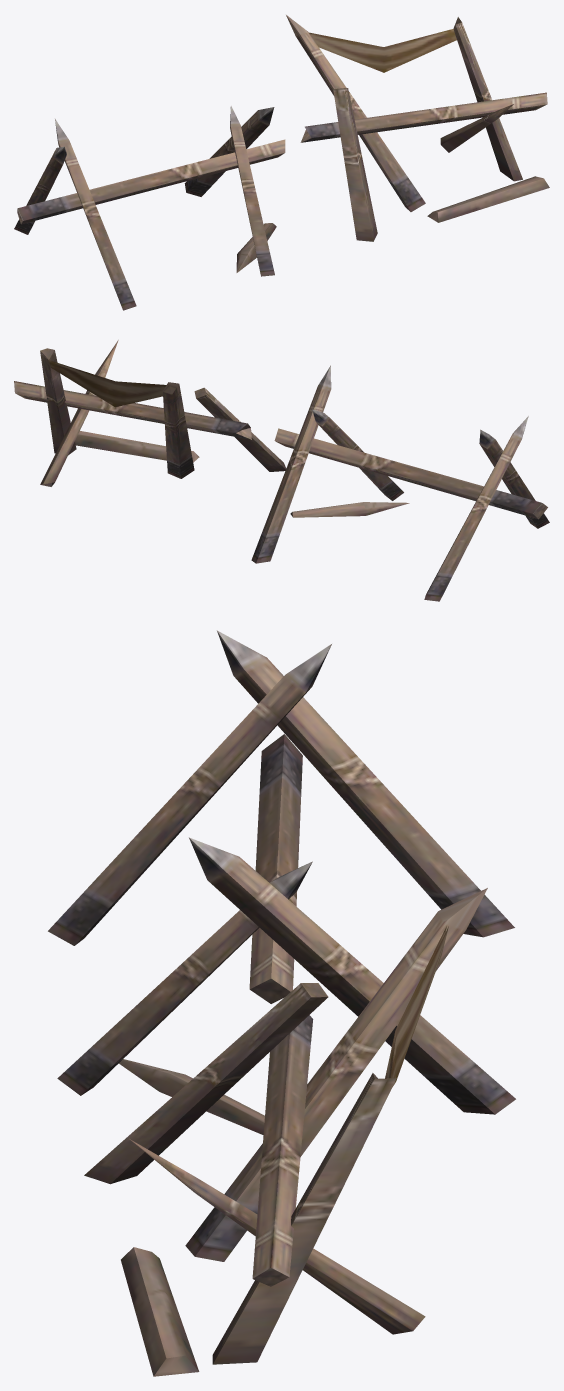
Rendered from juma02_R.fbx.
3 renders of one model, top to bottom at view 1: azimuth 30°, elevation 25°; view 2: azimuth 150°, elevation 25°; view 3: azimuth 270°, elevation 25°, orthographic. The views are drawn at different scales.
Parts seen in each view (by area): view 1: juma02_R; view 2: juma02_R; view 3: juma02_R.
Boxes of the visible parts, x1,y1,x2,y2 form: juma02_R: [14, 15, 549, 310]; juma02_R: [14, 340, 549, 601]; juma02_R: [48, 630, 515, 1376].
Bounding box in the file's own units: 6.99 × 2.03 × 2.7.
